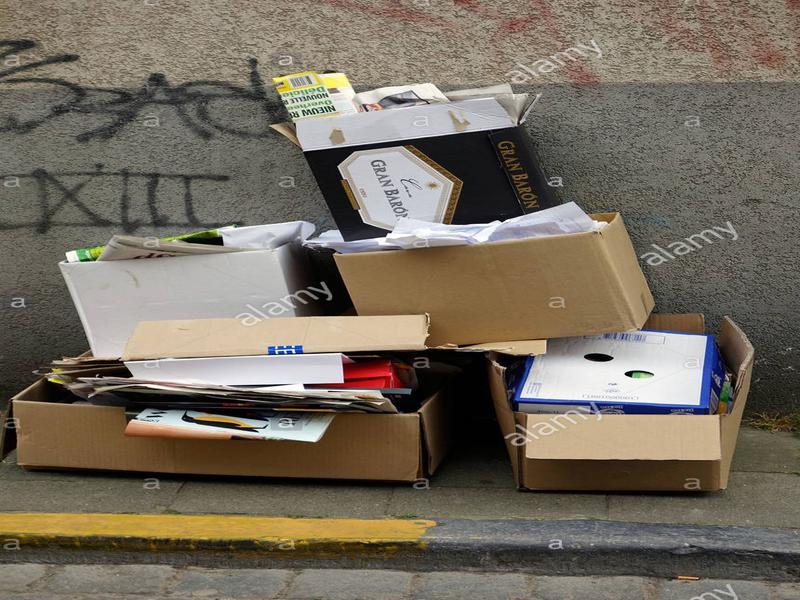cardboard: (7, 354, 464, 486), (480, 309, 760, 497), (319, 205, 658, 351), (255, 94, 587, 239), (52, 214, 330, 363)
paper: (50, 373, 407, 409), (267, 74, 360, 114)
